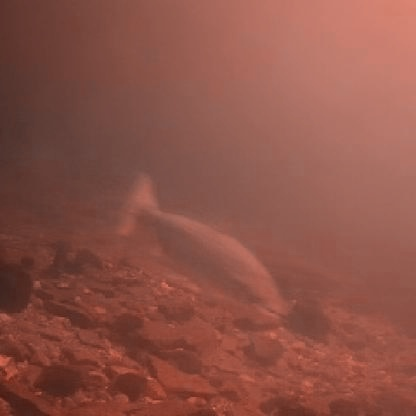salmon: (109, 166, 286, 321)
